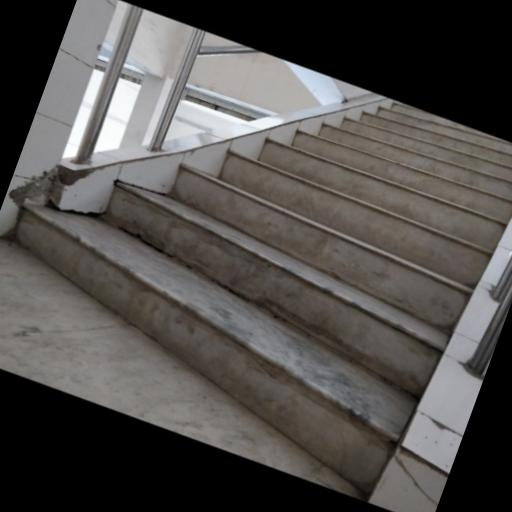stairs: (17, 102, 511, 493)
